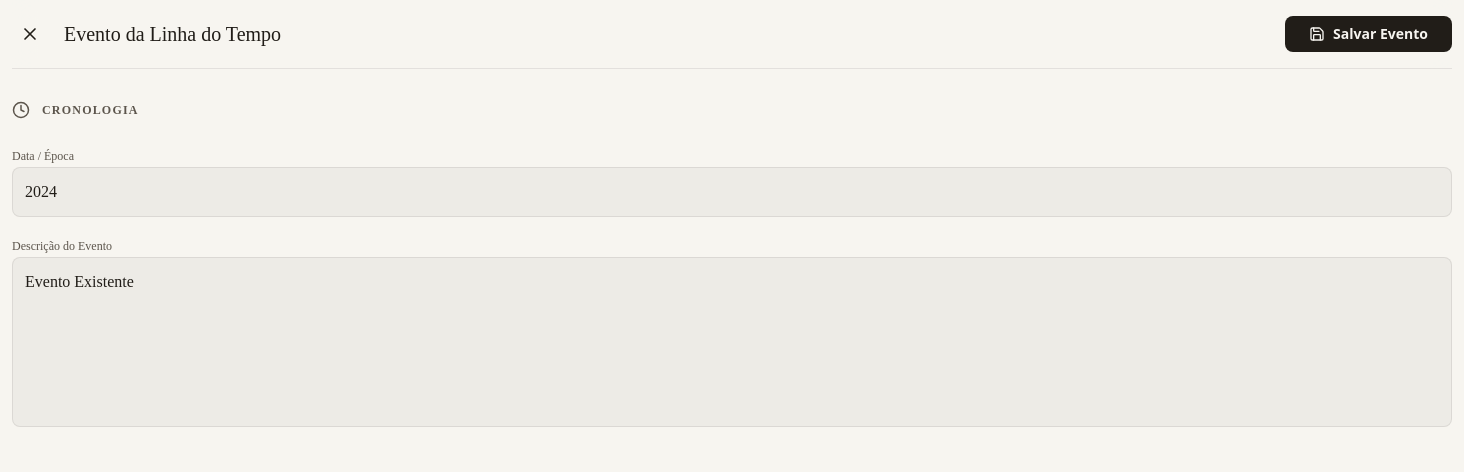
Test: LoreForms › TimelineEventForm › should show error when description is empty
Clear the text box labelled "Descrição do Evento". click: (732,342)
box: [12,257,1452,427]
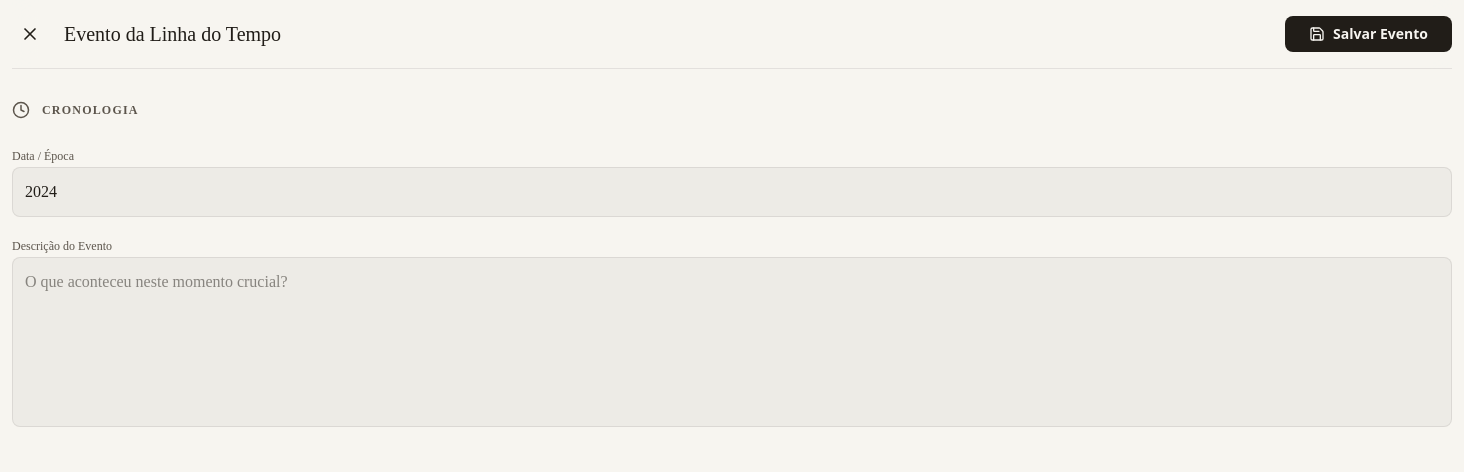
Click the button "Salvar Evento". click: (1369,34)
box: [1285,16,1452,52]
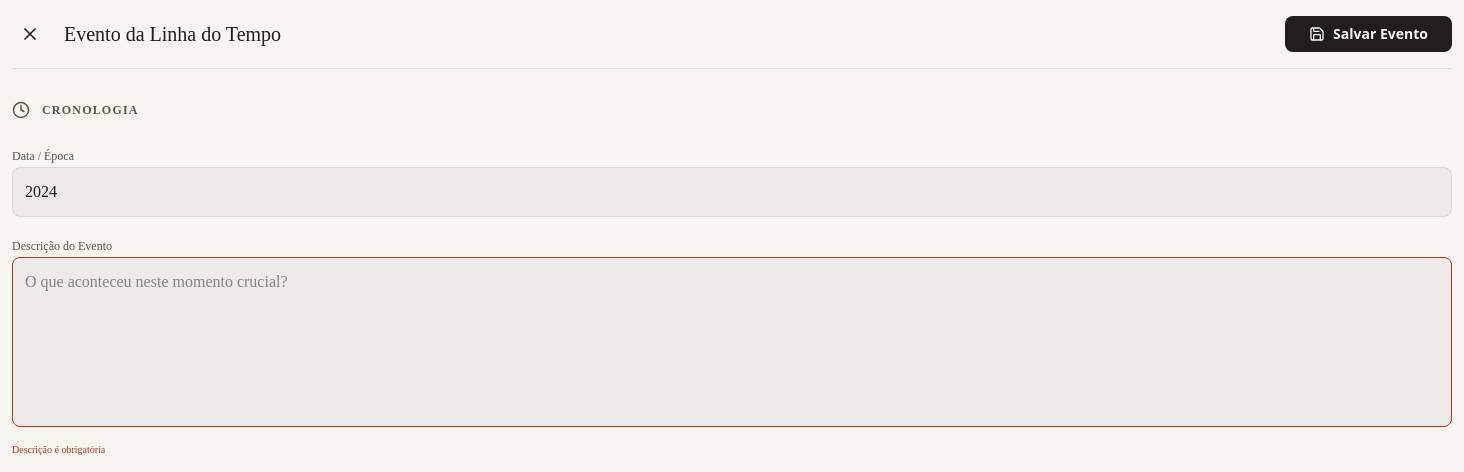
Result: the text "Descrição é obrigatória" is shown at [12,444,105,455]
